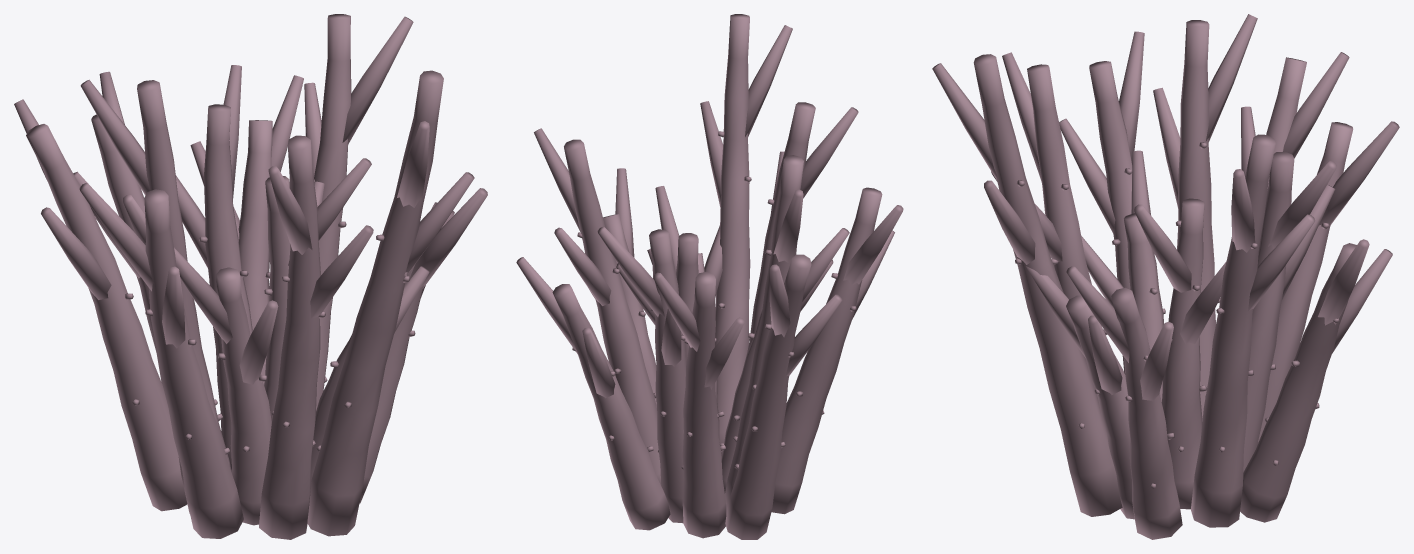
File: stylo-mobile.glb
The picture shows the model from 3 angles, left to right: view 1: azimuth 30°, elevation 25°; view 2: azimuth 150°, elevation 25°; view 3: azimuth 270°, elevation 25°; orthographic projection. The views are drawn at different scales.
Parts seen in each view (by area): view 1: branch, lateral-branch, radial-corallite; view 2: branch, lateral-branch, radial-corallite; view 3: branch, lateral-branch, radial-corallite.
Part boxes in pixels (x1,y1,x2,y2): branch: (26,14,454,539); lateral-branch: (14,16,487,384); radial-corallite: (94,179,415,454); branch: (552,14,882,539); lateral-branch: (516,25,903,398); radial-corallite: (572,131,856,469); branch: (973,20,1356,539); lateral-branch: (932,14,1399,401); radial-corallite: (1015,142,1339,488).
Size of the model in its own units: 0.4865 by 0.588 by 0.5257.
